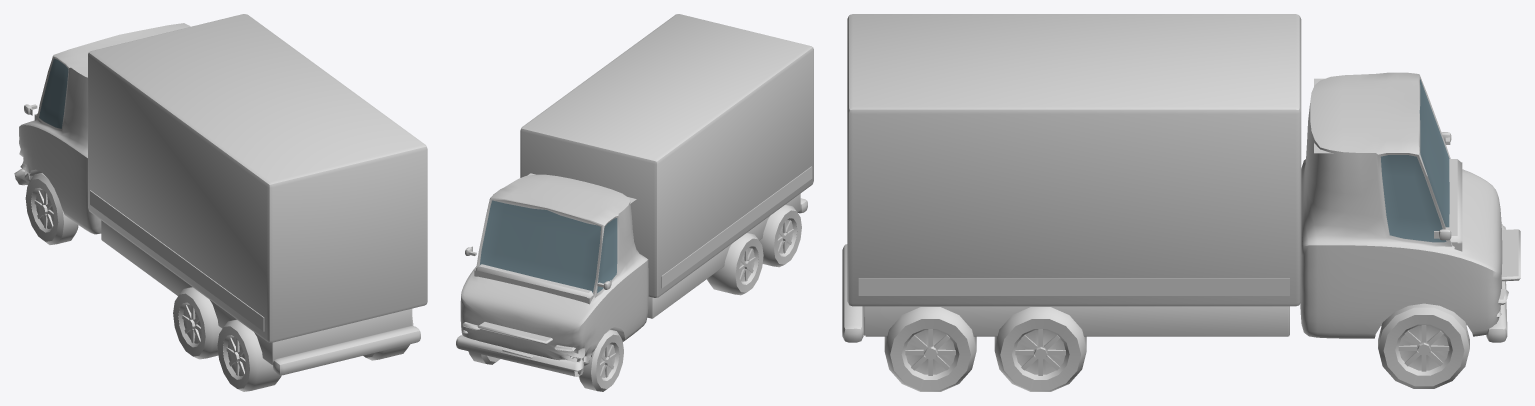
The model's file is car_truck_dmg1.glb.
The picture shows the model from 3 angles, left to right: view 1: azimuth 30°, elevation 25°; view 2: azimuth 150°, elevation 25°; view 3: azimuth 270°, elevation 25°; orthographic projection. The views are drawn at different scales.
Parts seen in each view (by area): view 1: car_truck_dmg1; view 2: car_truck_dmg1; view 3: car_truck_dmg1.
Part boxes in pixels (x1,y1,x2,y2): car_truck_dmg1: [14, 14, 427, 391]; car_truck_dmg1: [456, 14, 813, 391]; car_truck_dmg1: [842, 14, 1520, 391].
Size of the model in its own units: 2.48 by 3.29 by 7.08.
